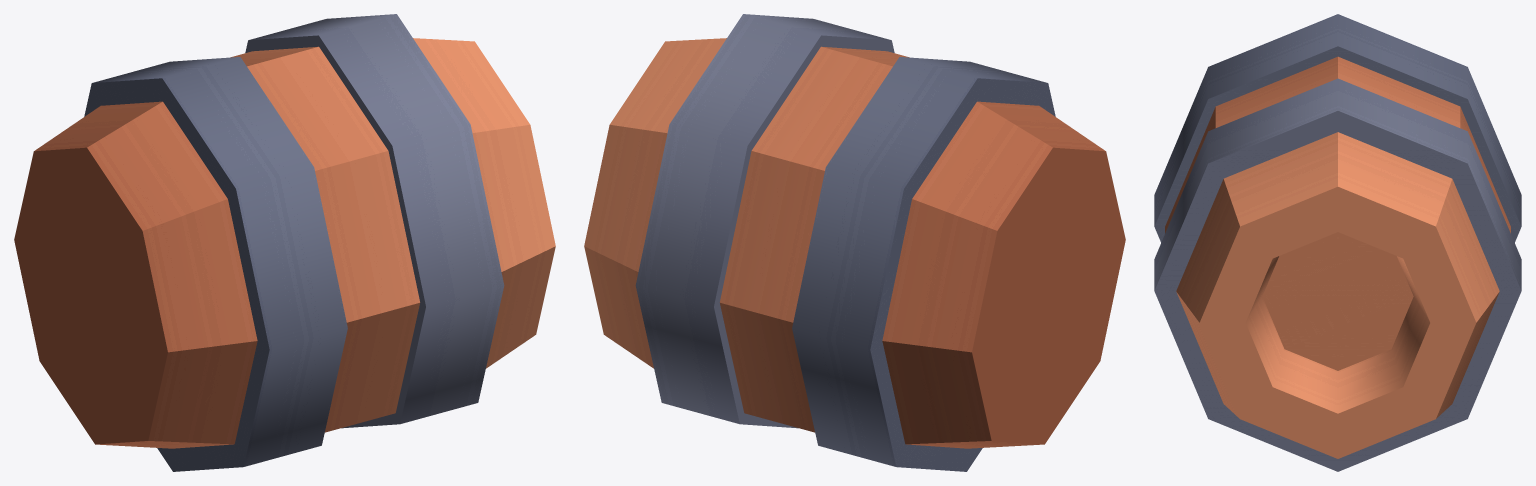
Rendered from barrel_lev2.glb.
3 renders of one model, left to right at view 1: azimuth 30°, elevation 25°; view 2: azimuth 150°, elevation 25°; view 3: azimuth 270°, elevation 25°, orthographic. The views are drawn at different scales.
Parts seen in each view (by area): view 1: barrel_lev2; view 2: barrel_lev2; view 3: barrel_lev2.
Part boxes in pixels (<box>): barrel_lev2: <box>14,14,555,471</box>; barrel_lev2: <box>584,14,1125,471</box>; barrel_lev2: <box>1154,14,1521,471</box>.
Size of the model in its own units: 1.76 by 1.72 by 1.57.
1 material, 1 textured.
